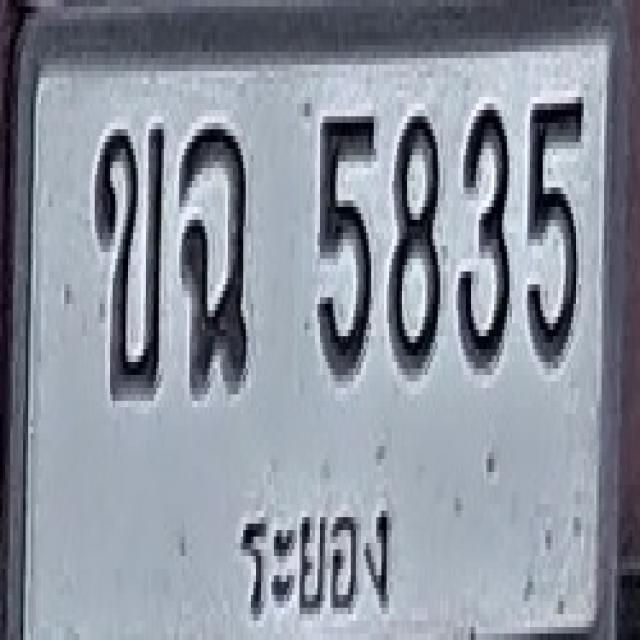-: (95, 123, 164, 394), (180, 123, 248, 388)
3: (458, 104, 509, 368)
5: (317, 110, 374, 375), (526, 97, 582, 362)
8: (389, 110, 440, 368)
